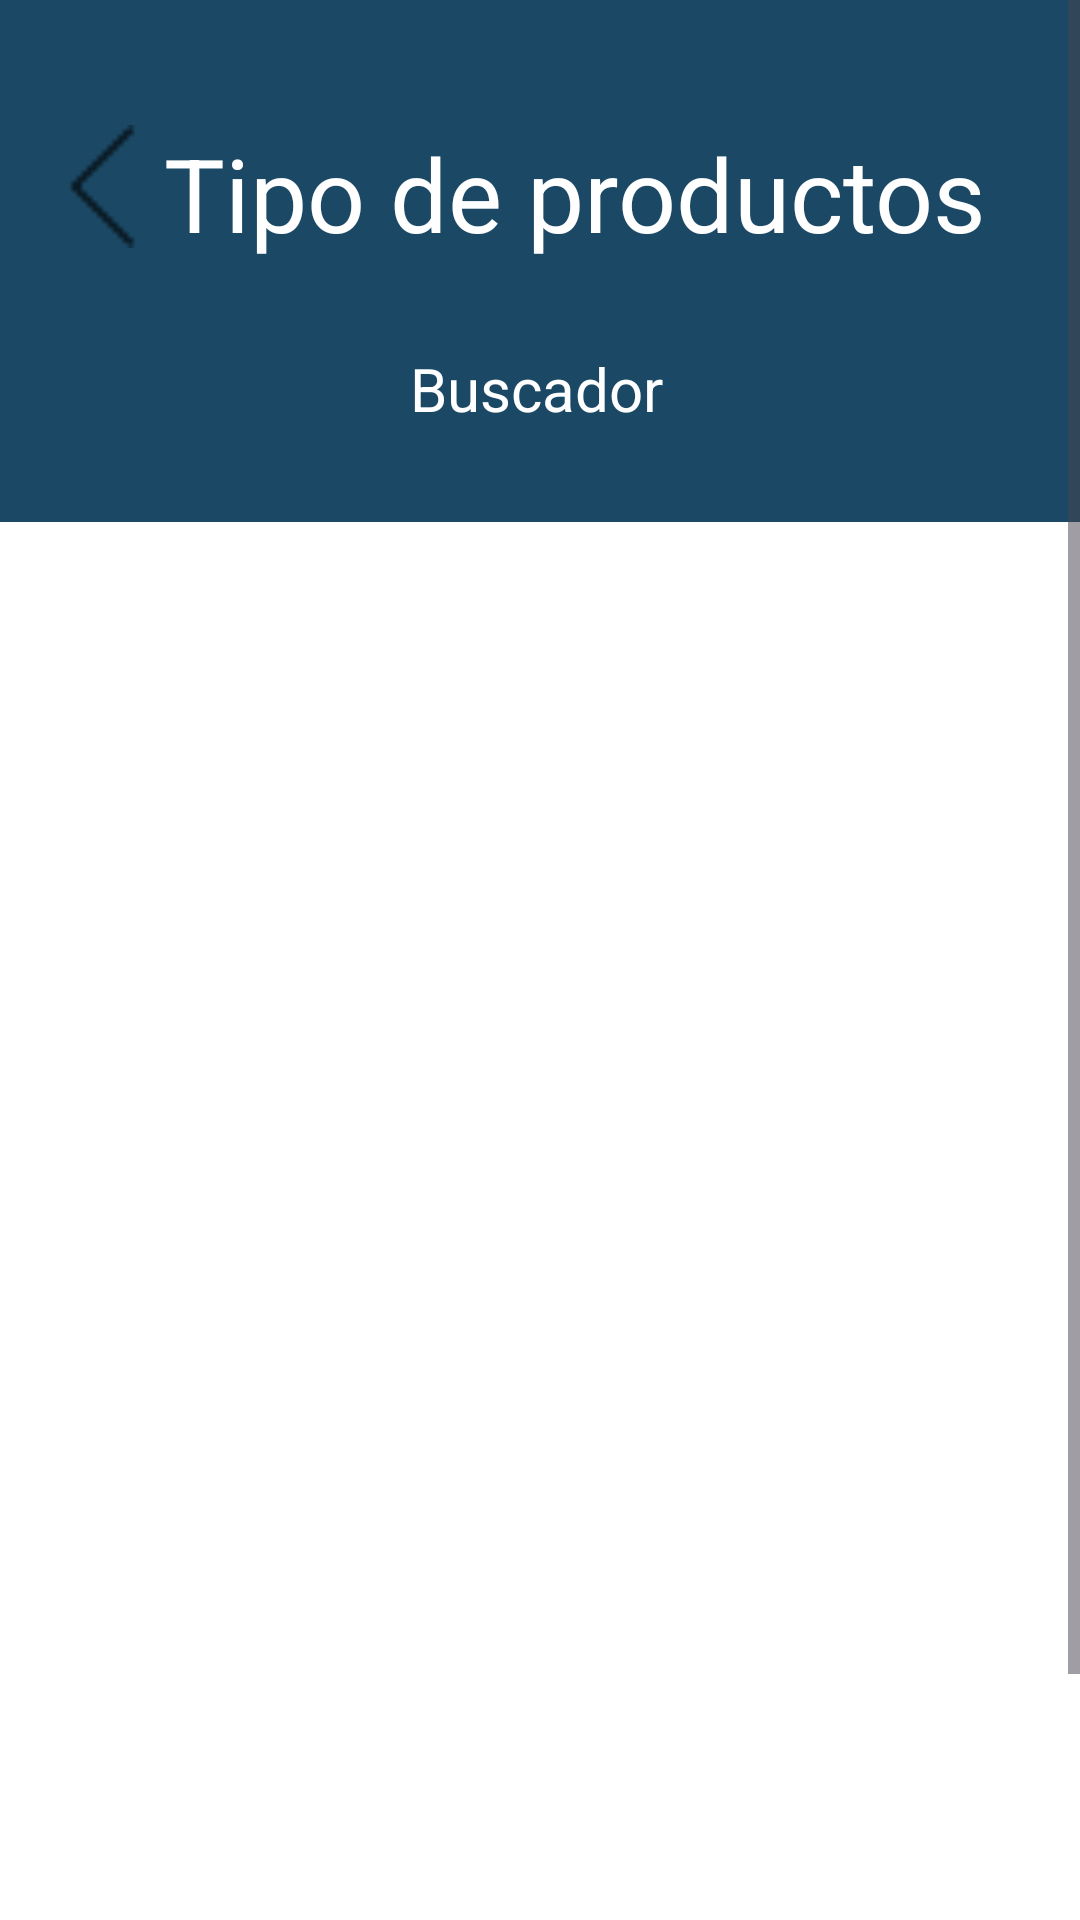

Screen size 1080 x 1920. Icon name, then its box in pixels as box=[x1, y1, x2, y2]:
flecha: box=[71, 125, 134, 248]
